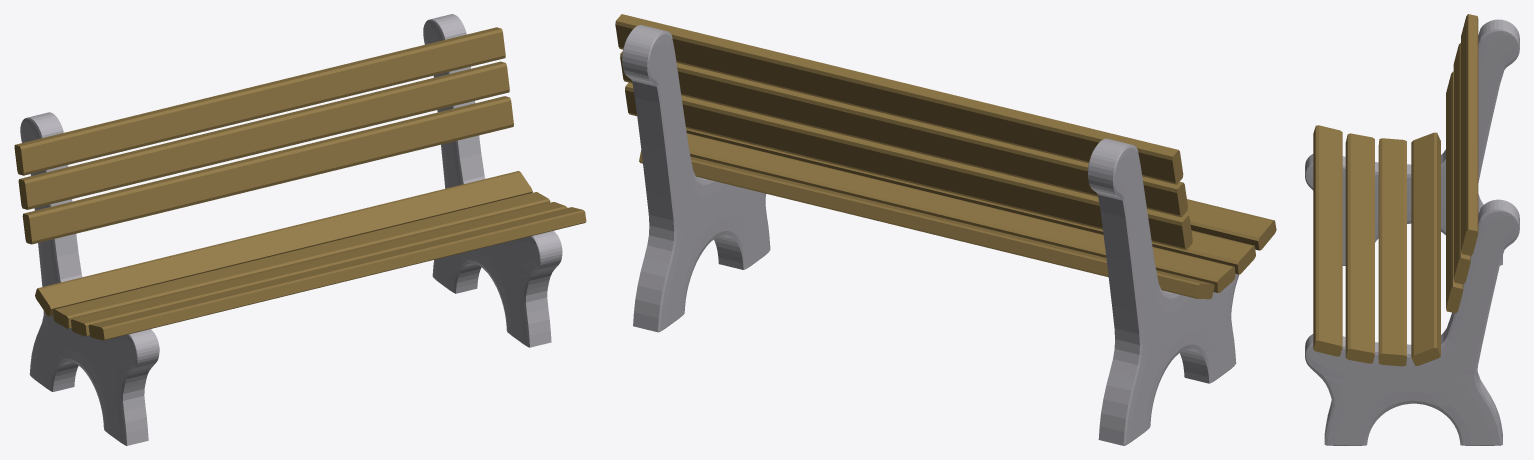
File: concrete-bench.obj
3 renders of one model, left to right at view 1: azimuth 30°, elevation 25°; view 2: azimuth 150°, elevation 25°; view 3: azimuth 270°, elevation 25°, orthographic. The views are drawn at different scales.
Visible parts, largest first — view 1: Bench_slats, Bench_supports; view 2: Bench_slats, Bench_supports; view 3: Bench_slats, Bench_supports.
Part boxes in pixels (bbox=[...]): Bench_slats: bbox=[14, 27, 586, 340]; Bench_supports: bbox=[20, 14, 562, 445]; Bench_slats: bbox=[615, 14, 1276, 299]; Bench_supports: bbox=[622, 25, 1239, 445]; Bench_slats: bbox=[1313, 14, 1478, 366]; Bench_supports: bbox=[1305, 19, 1519, 445].
Size of the model in its own units: 14.22 by 7.29 by 6.
